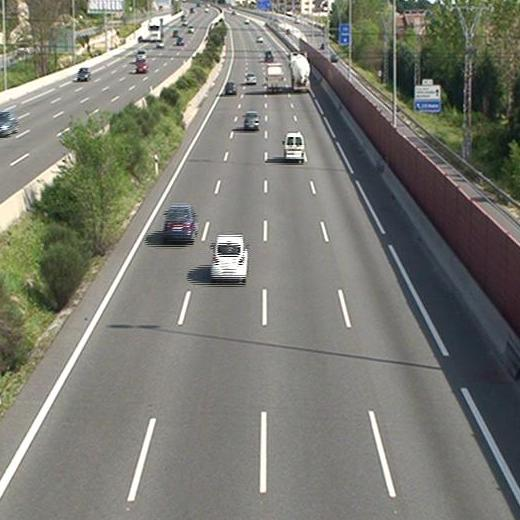car: (211, 235, 247, 281), (163, 206, 193, 240), (243, 112, 260, 129), (224, 82, 235, 95), (263, 50, 275, 61), (245, 72, 256, 84)
small-truck: (265, 63, 284, 92)
tank-truck: (289, 50, 310, 92)
van: (284, 134, 304, 162)
